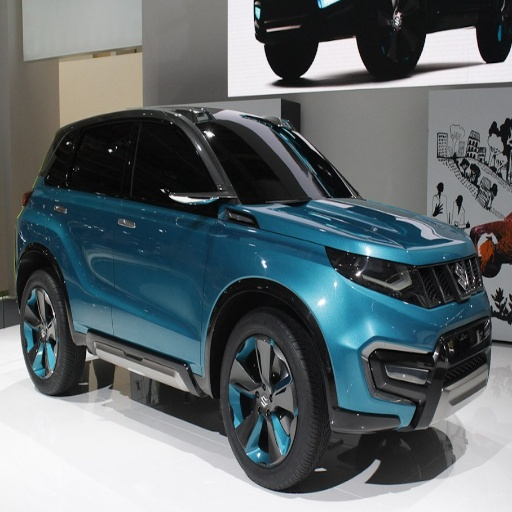front_bumper: (319, 277, 492, 439)
front_right_door: (115, 118, 218, 360)
front_right_light: (328, 250, 425, 304)
